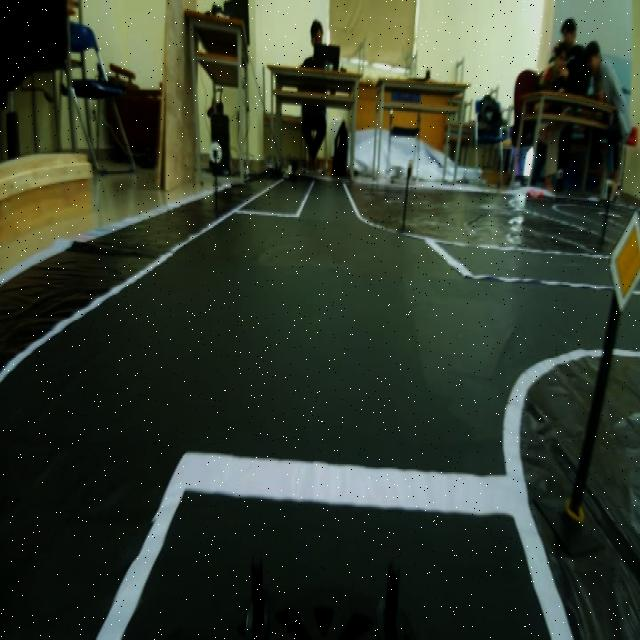priority: (609, 207, 640, 311)
